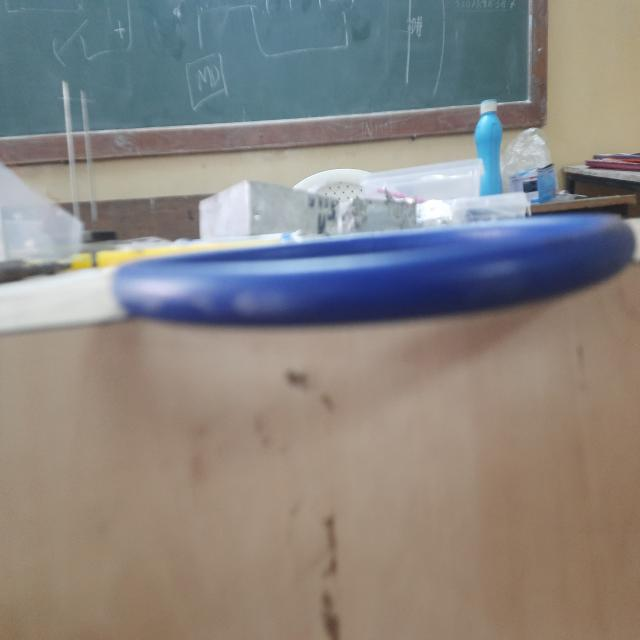daire: (119, 219, 617, 325)
